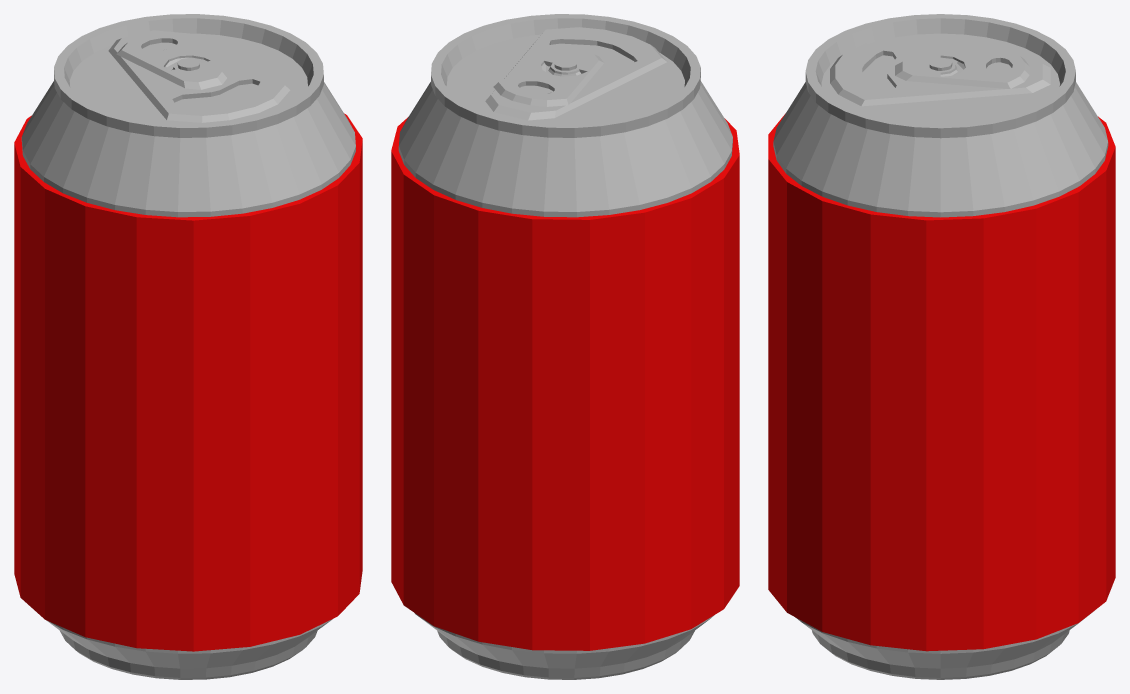
The model's file is Soda.fbx.
The picture shows the model from 3 angles, left to right: view 1: azimuth 30°, elevation 25°; view 2: azimuth 150°, elevation 25°; view 3: azimuth 270°, elevation 25°; orthographic projection.
Parts seen in each view (by area): view 1: Cylinder.001, Cylinder; view 2: Cylinder.001, Cylinder; view 3: Cylinder.001, Cylinder.
Part boxes in pixels (bbox=[...]): Cylinder.001: bbox=[14, 113, 362, 651]; Cylinder: bbox=[21, 14, 355, 679]; Cylinder.001: bbox=[391, 117, 739, 650]; Cylinder: bbox=[398, 14, 732, 679]; Cylinder.001: bbox=[768, 113, 1115, 651]; Cylinder: bbox=[773, 14, 1108, 679].
Bounding box in the file's own units: 6.97 × 12.44 × 6.95.
